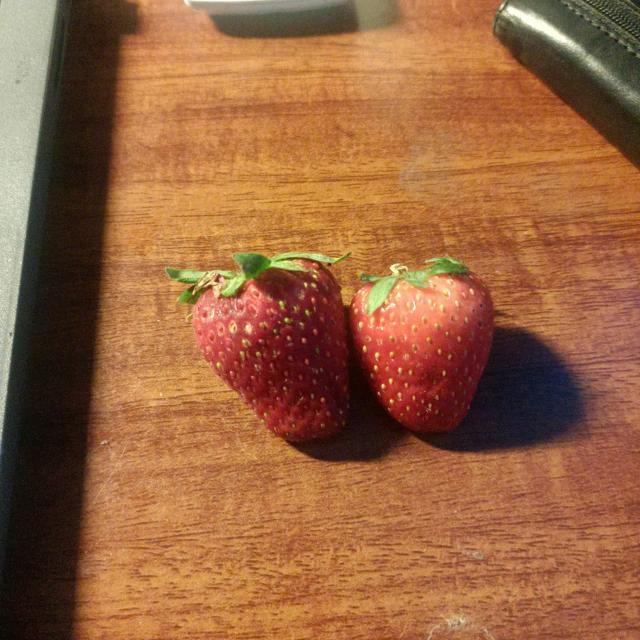DauTay: (153, 232, 367, 460), (348, 252, 508, 448)
